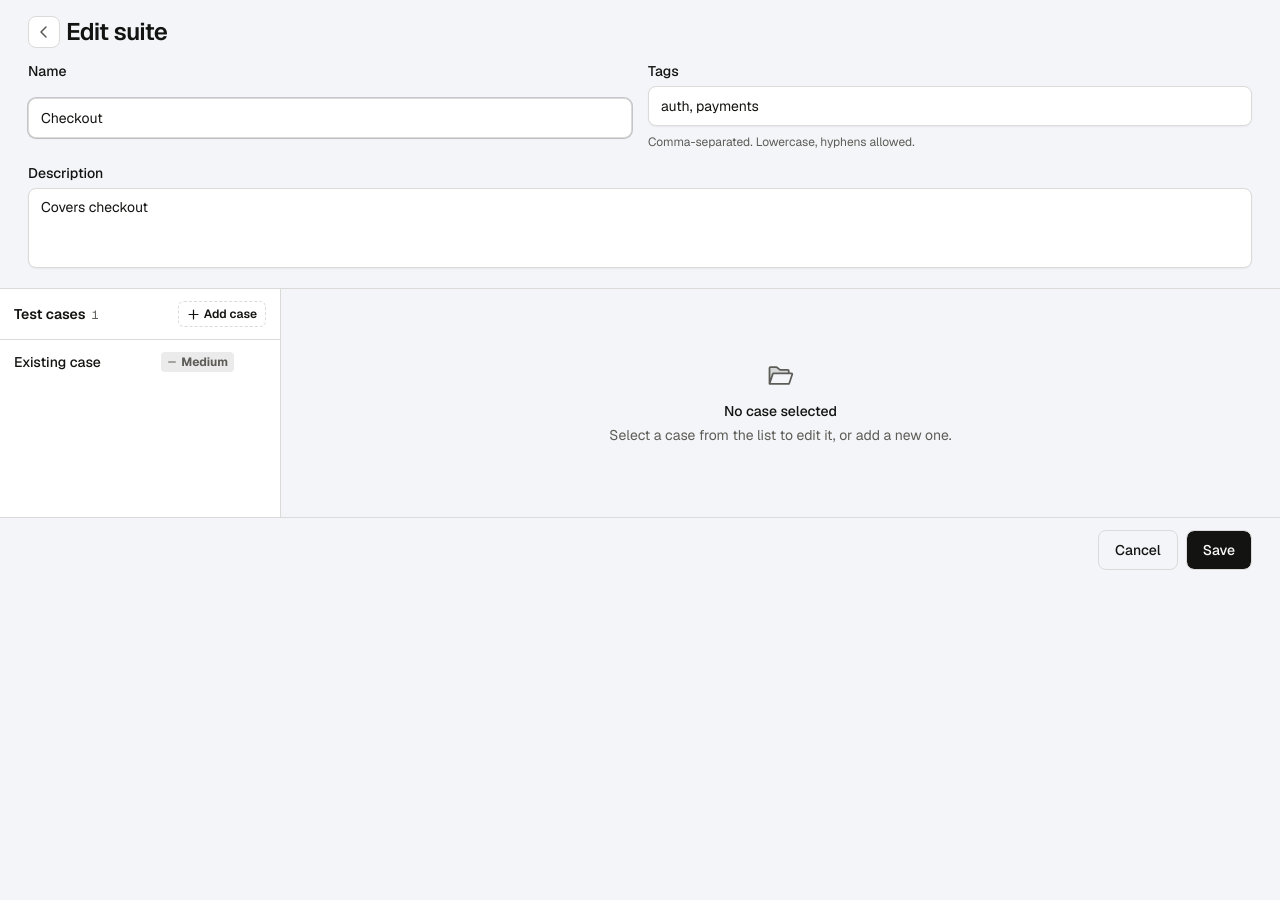
Test: SuiteForm › inline case management › selecting a case opens it in the editor
This screenshot has width=1280, height=900.
Click the button "Existing case" at (84, 362), box [14,352,153,372]
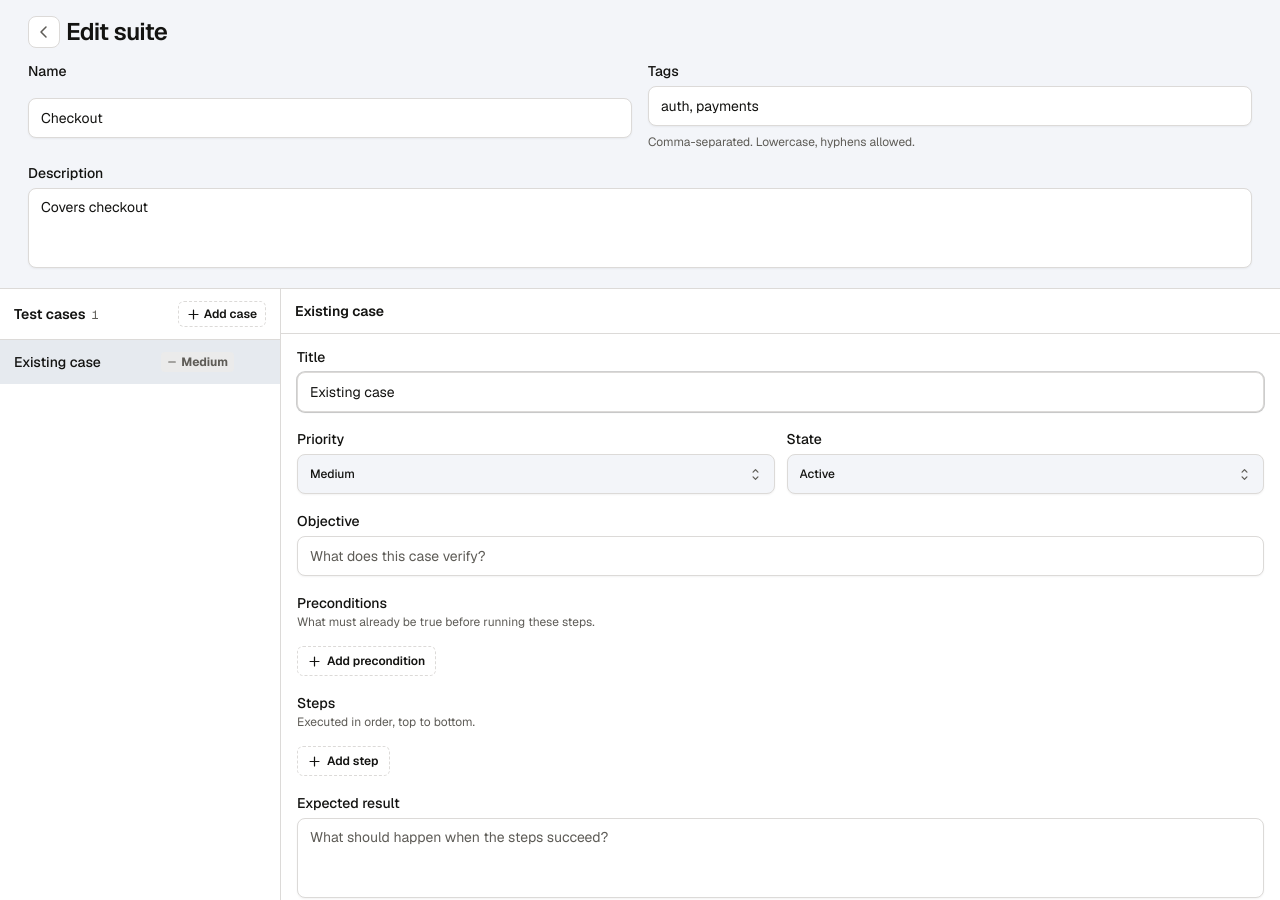
Expected: the field labelled "Title" holds "Existing case", [297,372,1264,412]
